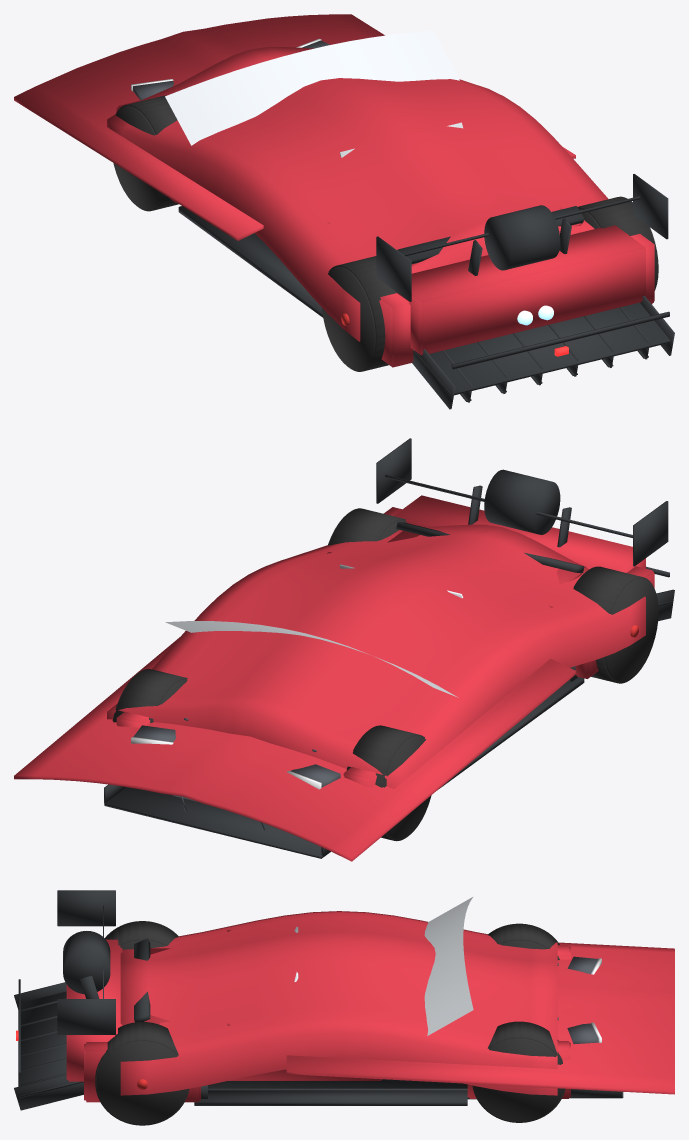
File: modular_gt3_apex.glb
3 views of the same model, one above another, from view 1: azimuth 30°, elevation 25°; view 2: azimuth 150°, elevation 25°; view 3: azimuth 270°, elevation 25° (orthographic). The views are drawn at different scales.
Parts seen in each view (by area): view 1: Greenhouse_Roof_Canopy, Bonnet_Hood_Skin, Rear_Bumper_Fascia, Windshield_Glass, Diffuser_Curved_Ramp, Tire_Slick_Rubber_RL, Wing_Main_Aerofoil, Tire_Slick_Rubber_FL, Side_Skirts_Left, Rear_Haunch_Left, Tire_Slick_Rubber_RR, Wing_Endplate_Left (+6 smaller); view 2: Greenhouse_Roof_Canopy, Bonnet_Hood_Skin, Front_Splitter_Tray, Tire_Slick_Rubber_RL, Rear_Bumper_Fascia, Wing_Main_Aerofoil, Tire_Slick_Rubber_FL, Tire_Slick_Rubber_FR, Tire_Slick_Rubber_RR, Wing_Endplate_Left, Windshield_Glass, Wing_Endplate_Right (+3 smaller); view 3: Greenhouse_Roof_Canopy, Bonnet_Hood_Skin, Tire_Slick_Rubber_RR, Windshield_Glass, Side_Skirts_Right, Tire_Slick_Rubber_FR, Diffuser_Curved_Ramp, Wing_Main_Aerofoil, Rear_Bumper_Fascia, Wing_Endplate_Left, Wing_Endplate_Right, Chassis_Carbon_Monocoque (+12 smaller).
Part boxes in pixels (x1,y1,x2,y2): Greenhouse_Roof_Canopy: (107, 47, 608, 341); Bonnet_Hood_Skin: (14, 14, 575, 240); Rear_Bumper_Fascia: (396, 225, 645, 355); Windshield_Glass: (165, 31, 459, 145); Diffuser_Curved_Ramp: (413, 302, 670, 395); Tire_Slick_Rubber_RL: (322, 256, 396, 371); Wing_Main_Aerofoil: (484, 205, 560, 270); Tire_Slick_Rubber_FL: (113, 95, 178, 211); Side_Skirts_Left: (178, 206, 322, 317); Rear_Haunch_Left: (379, 293, 413, 367); Tire_Slick_Rubber_RR: (577, 196, 658, 290); Wing_Endplate_Left: (376, 236, 411, 301); Greenhouse_Roof_Canopy: (107, 524, 645, 788); Bonnet_Hood_Skin: (14, 637, 575, 861); Front_Splitter_Tray: (104, 787, 330, 858); Tire_Slick_Rubber_RL: (573, 566, 658, 683); Rear_Bumper_Fascia: (393, 495, 645, 572); Wing_Main_Aerofoil: (484, 469, 560, 534); Tire_Slick_Rubber_FL: (346, 725, 431, 841); Tire_Slick_Rubber_FR: (112, 669, 187, 722); Tire_Slick_Rubber_RR: (328, 508, 406, 545); Wing_Endplate_Left: (633, 501, 668, 566); Windshield_Glass: (165, 621, 458, 697); Wing_Endplate_Right: (376, 438, 411, 503); Greenhouse_Roof_Canopy: (120, 911, 557, 1095); Bonnet_Hood_Skin: (286, 942, 674, 1094); Tire_Slick_Rubber_RR: (95, 1022, 189, 1125); Windshield_Glass: (424, 897, 473, 1035); Side_Skirts_Right: (194, 1090, 467, 1105); Tire_Slick_Rubber_FR: (472, 1021, 565, 1122); Diffuser_Curved_Ramp: (18, 991, 83, 1098); Wing_Main_Aerofoil: (63, 931, 110, 994); Rear_Bumper_Fascia: (66, 939, 122, 1081); Wing_Endplate_Left: (57, 890, 115, 926); Wing_Endplate_Right: (57, 999, 115, 1034); Chassis_Carbon_Monocoque: (208, 1079, 467, 1088).
Size of the model in its own units: 2.42 by 1.01 by 4.74.
